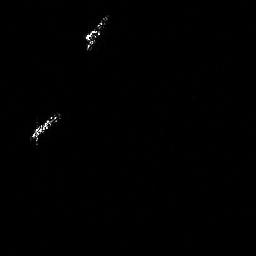ship: (29, 110, 64, 146), (84, 13, 110, 52)
